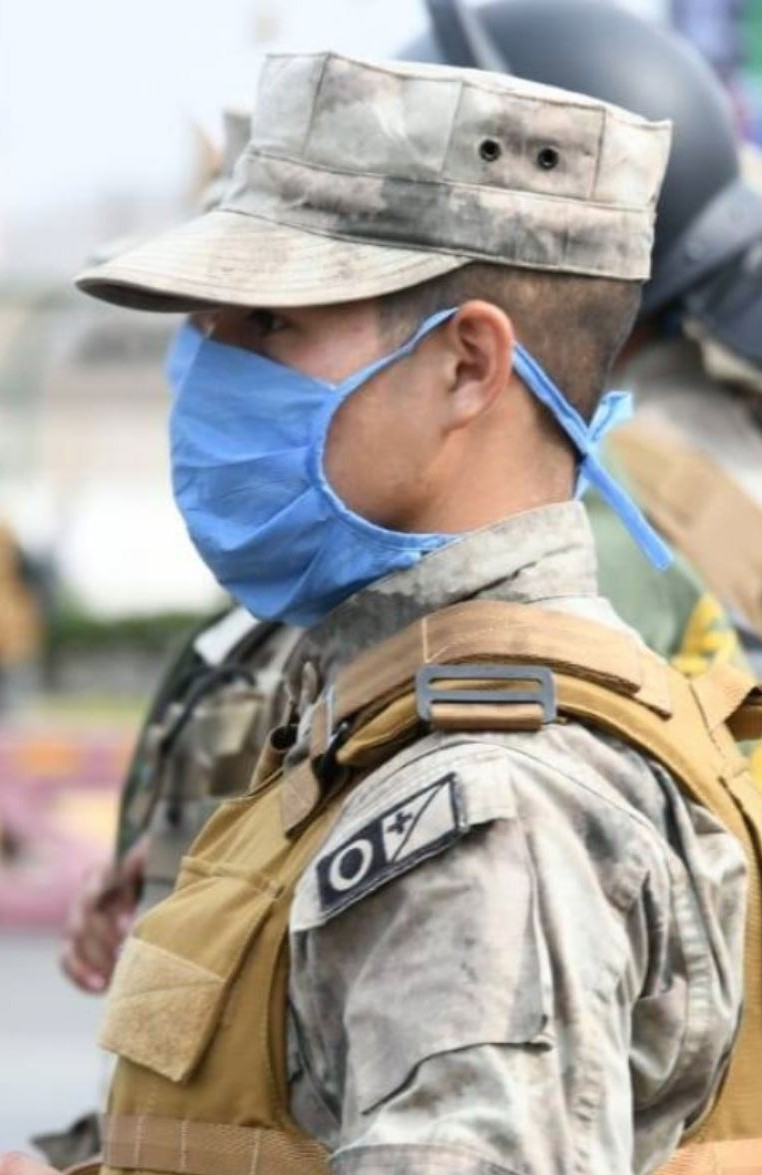with_mask: (129, 82, 648, 626)
